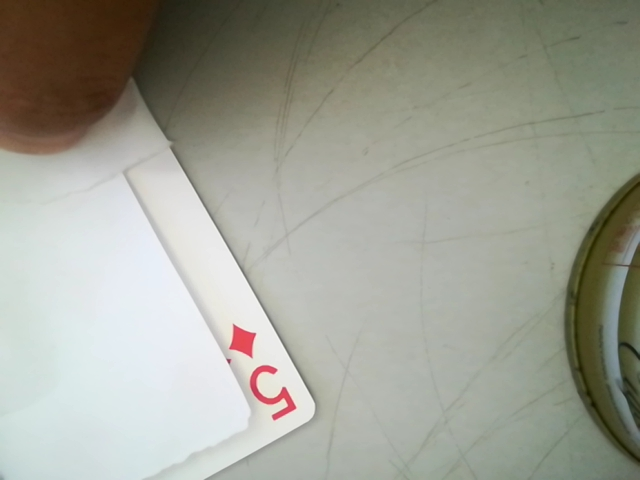fk 5: (211, 310, 298, 429)
